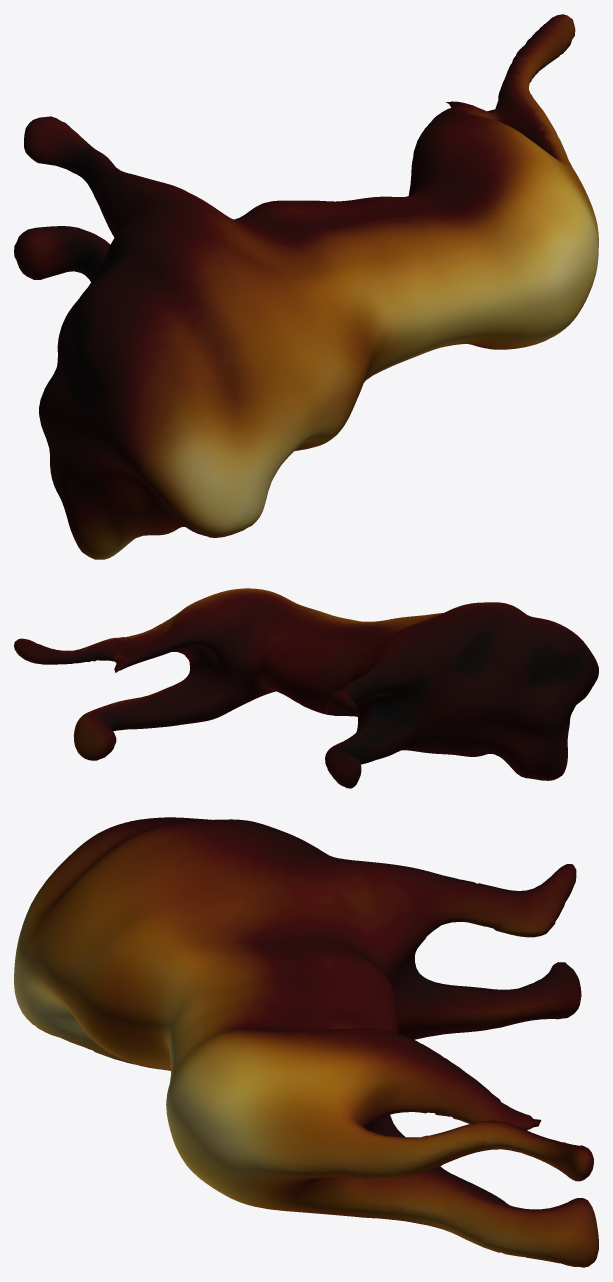
The model's file is lion.glb.
3 renders of one model, top to bottom at view 1: azimuth 30°, elevation 25°; view 2: azimuth 150°, elevation 25°; view 3: azimuth 270°, elevation 25°, orthographic. The views are drawn at different scales.
Bounding box in the file's own units: 0.9989 × 0.3649 × 0.7159.
